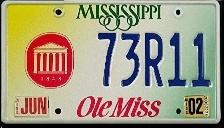1: (190, 31, 213, 89), (166, 31, 189, 87)
3: (119, 32, 142, 88)
7: (96, 31, 118, 89)
R: (143, 32, 165, 88)
